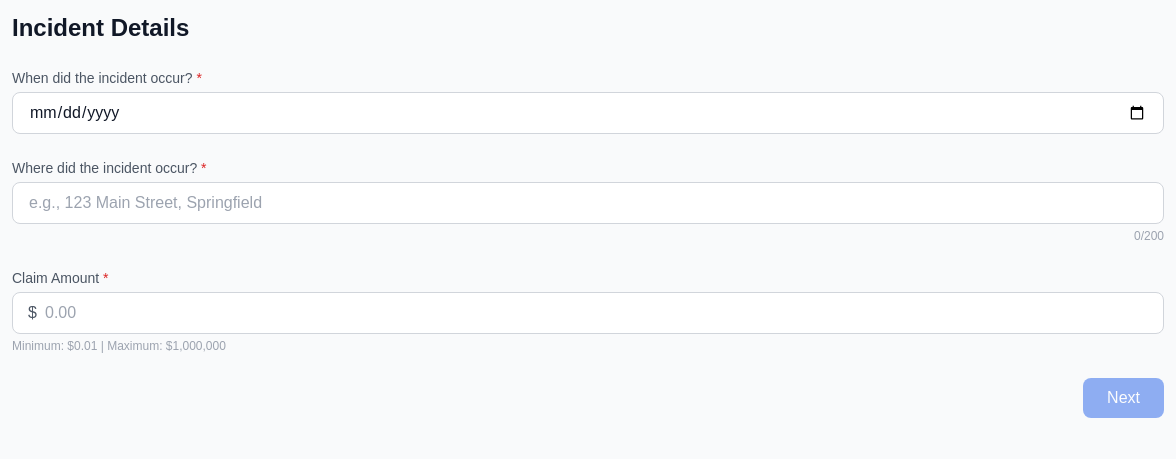
Test: TC-SUB-09 wizard step 1 blocks invalid input › explains an amount below the minimum
Type "0" into the number field labelled "Claim Amount *" at (588, 313), box left=12, top=292, right=1164, bottom=334
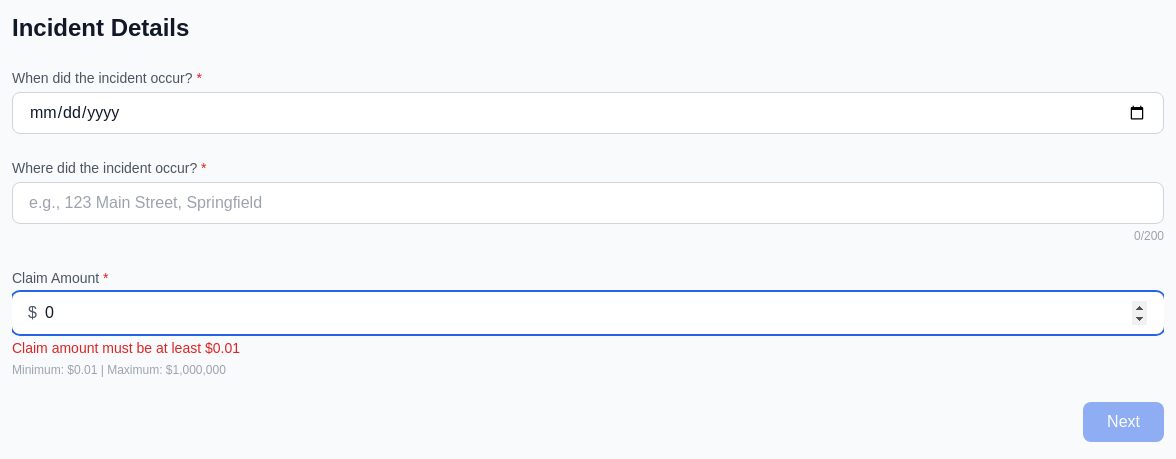
Now the text "Claim amount must be at least $0.01" is shown, box left=12, top=340, right=240, bottom=356
